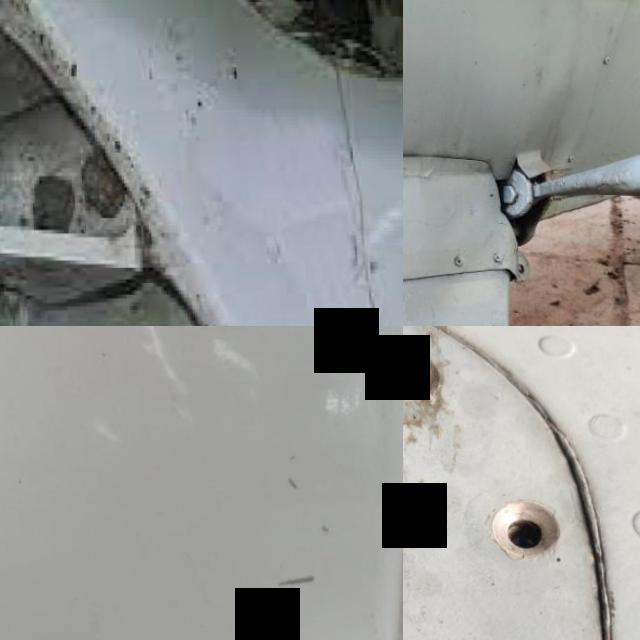Crack: (184, 431, 356, 640), (311, 50, 403, 326)
Missing_Fastener: (459, 467, 588, 588), (403, 326, 477, 441)
